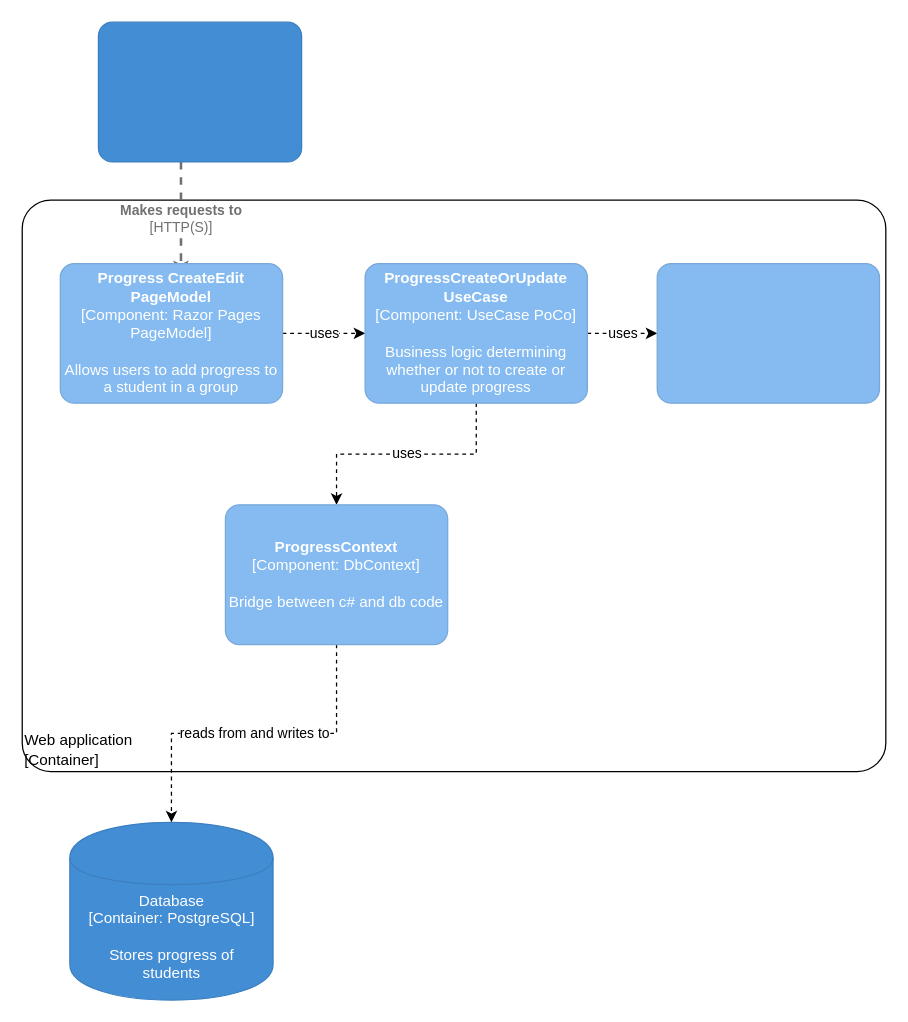
Some shapes in this 908 by 1022 pixel diagram are drawn without their labels. The shapes that lost their labels are listed below. From the top down, each one's centre as x and y in pixels, then its label:
At [199,91]: "Web Application [Container: .NET 5 Razor Pages] Meat of the system".
At [767,332]: "ProgressUpdate [Component: Entity] Entity for progress updates".
